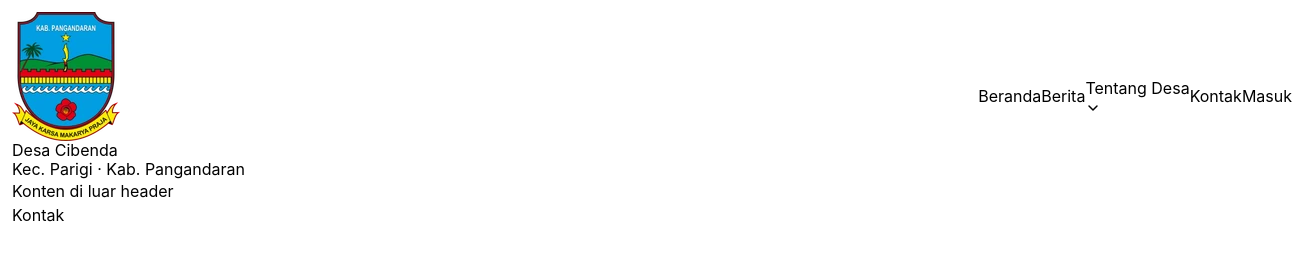
it: BerandaHeader › dropdown Tentang Desa (A3–A7) › links Profil desa to the top of the village profile page and closes
Click the button "Tentang Desa": (1138, 96) [1085,76,1190,116]
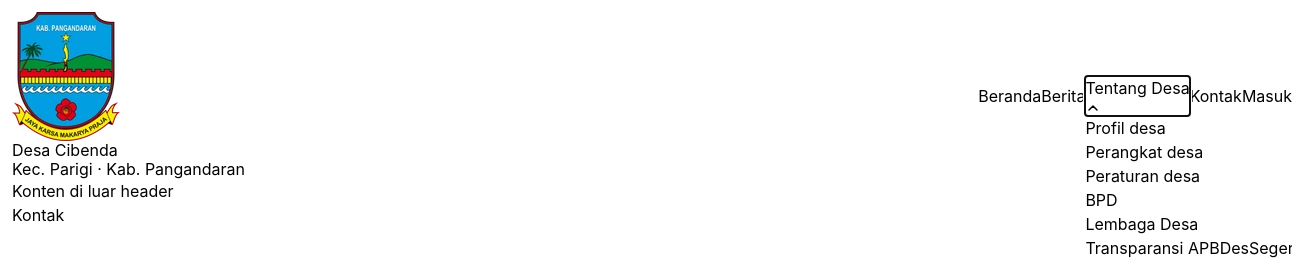
Click the link "Profil desa": (1126, 128) [1085,118,1166,138]
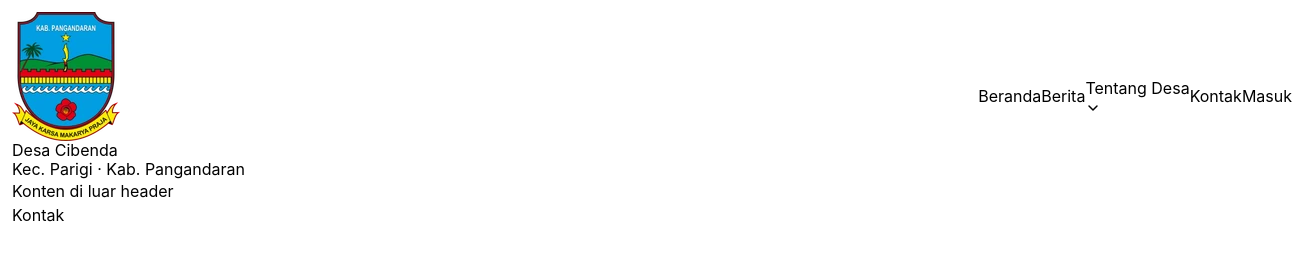
Expected: the button "Tentang Desa" is collapsed, [1085,76,1190,116]
